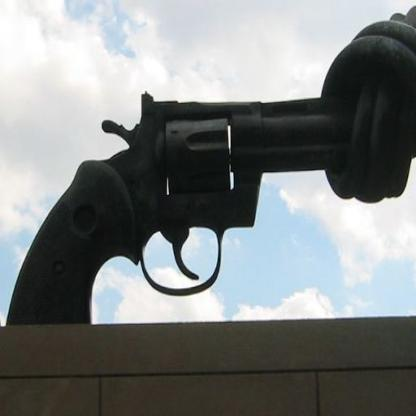gun: (2, 3, 416, 327)
